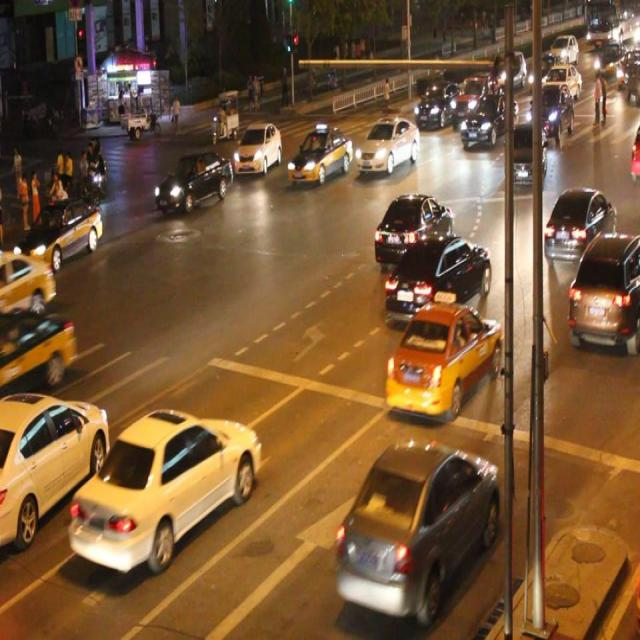car: (69, 406, 258, 572), (337, 436, 496, 620), (1, 388, 110, 544), (384, 299, 501, 413), (383, 231, 490, 325), (567, 232, 640, 351), (372, 191, 453, 271), (1, 311, 77, 394), (13, 200, 102, 267), (542, 187, 616, 260), (154, 150, 233, 214), (354, 115, 418, 174), (286, 128, 352, 184), (1, 252, 55, 316), (458, 92, 516, 149), (232, 120, 281, 177), (413, 80, 460, 129), (508, 122, 544, 180)
